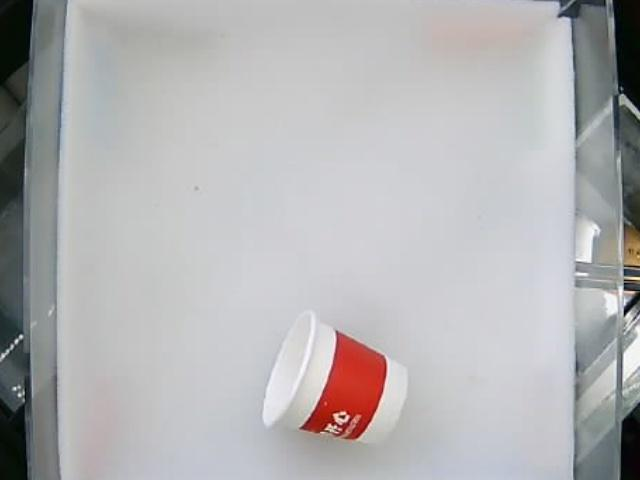Cup: (261, 311, 402, 444)
